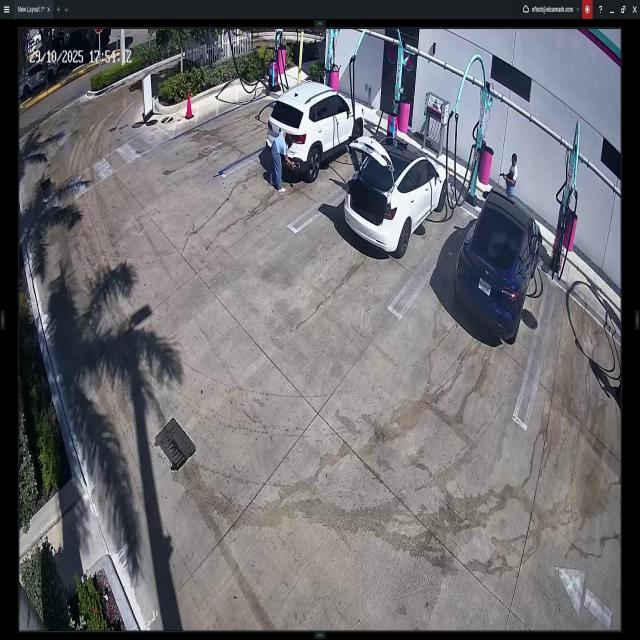Car: (345, 129, 446, 258), (461, 192, 538, 340), (268, 78, 365, 179)
